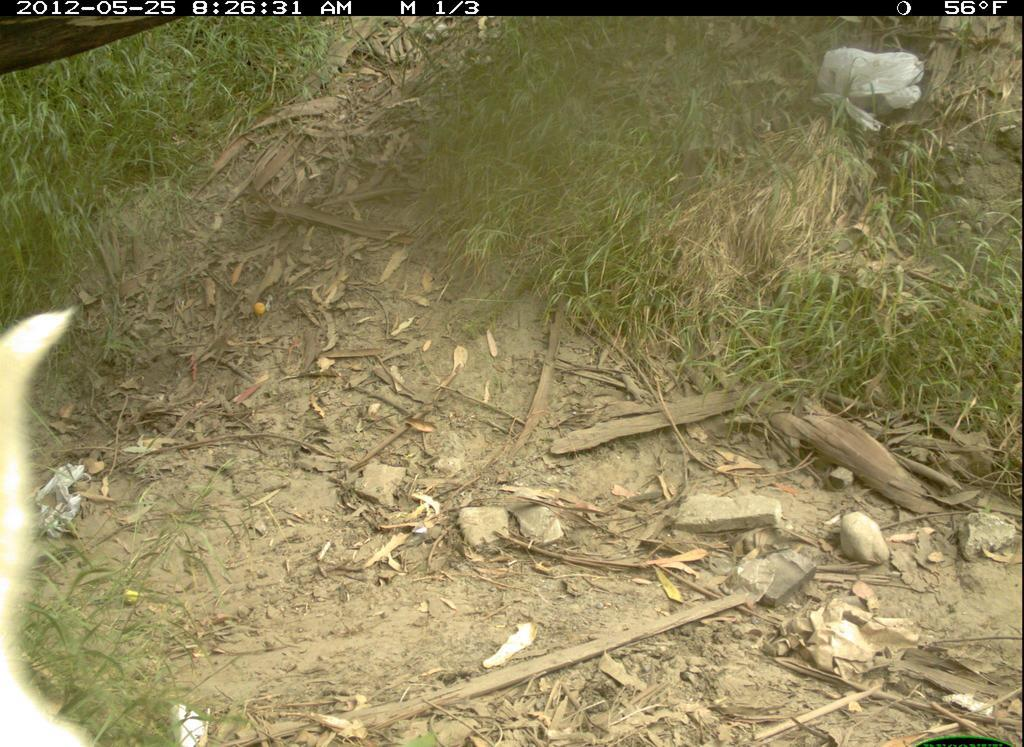dog: (1, 297, 117, 747)
